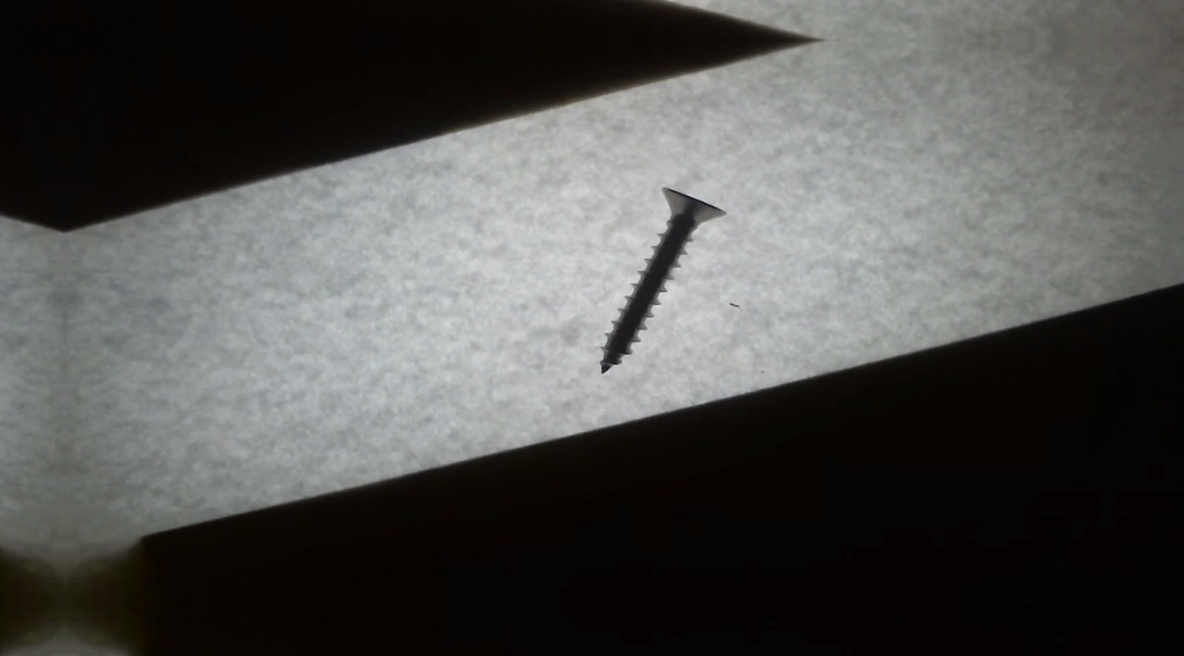S001: (571, 176, 738, 381)
